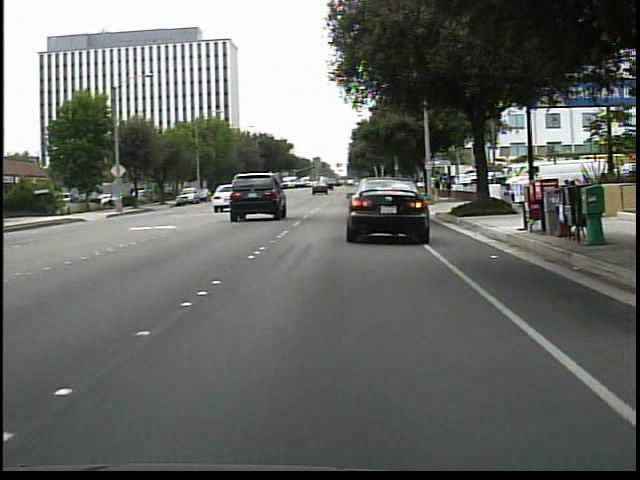person: (443, 177, 454, 202), (432, 177, 443, 202)
